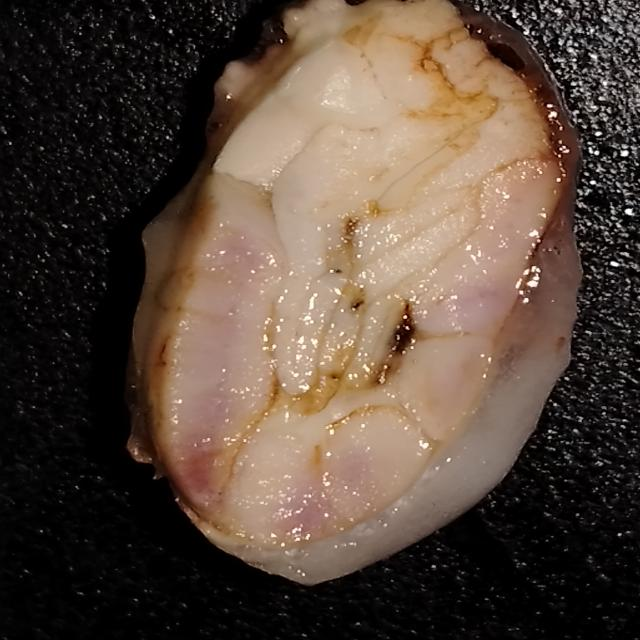Trinitario: (147, 12, 583, 580)
